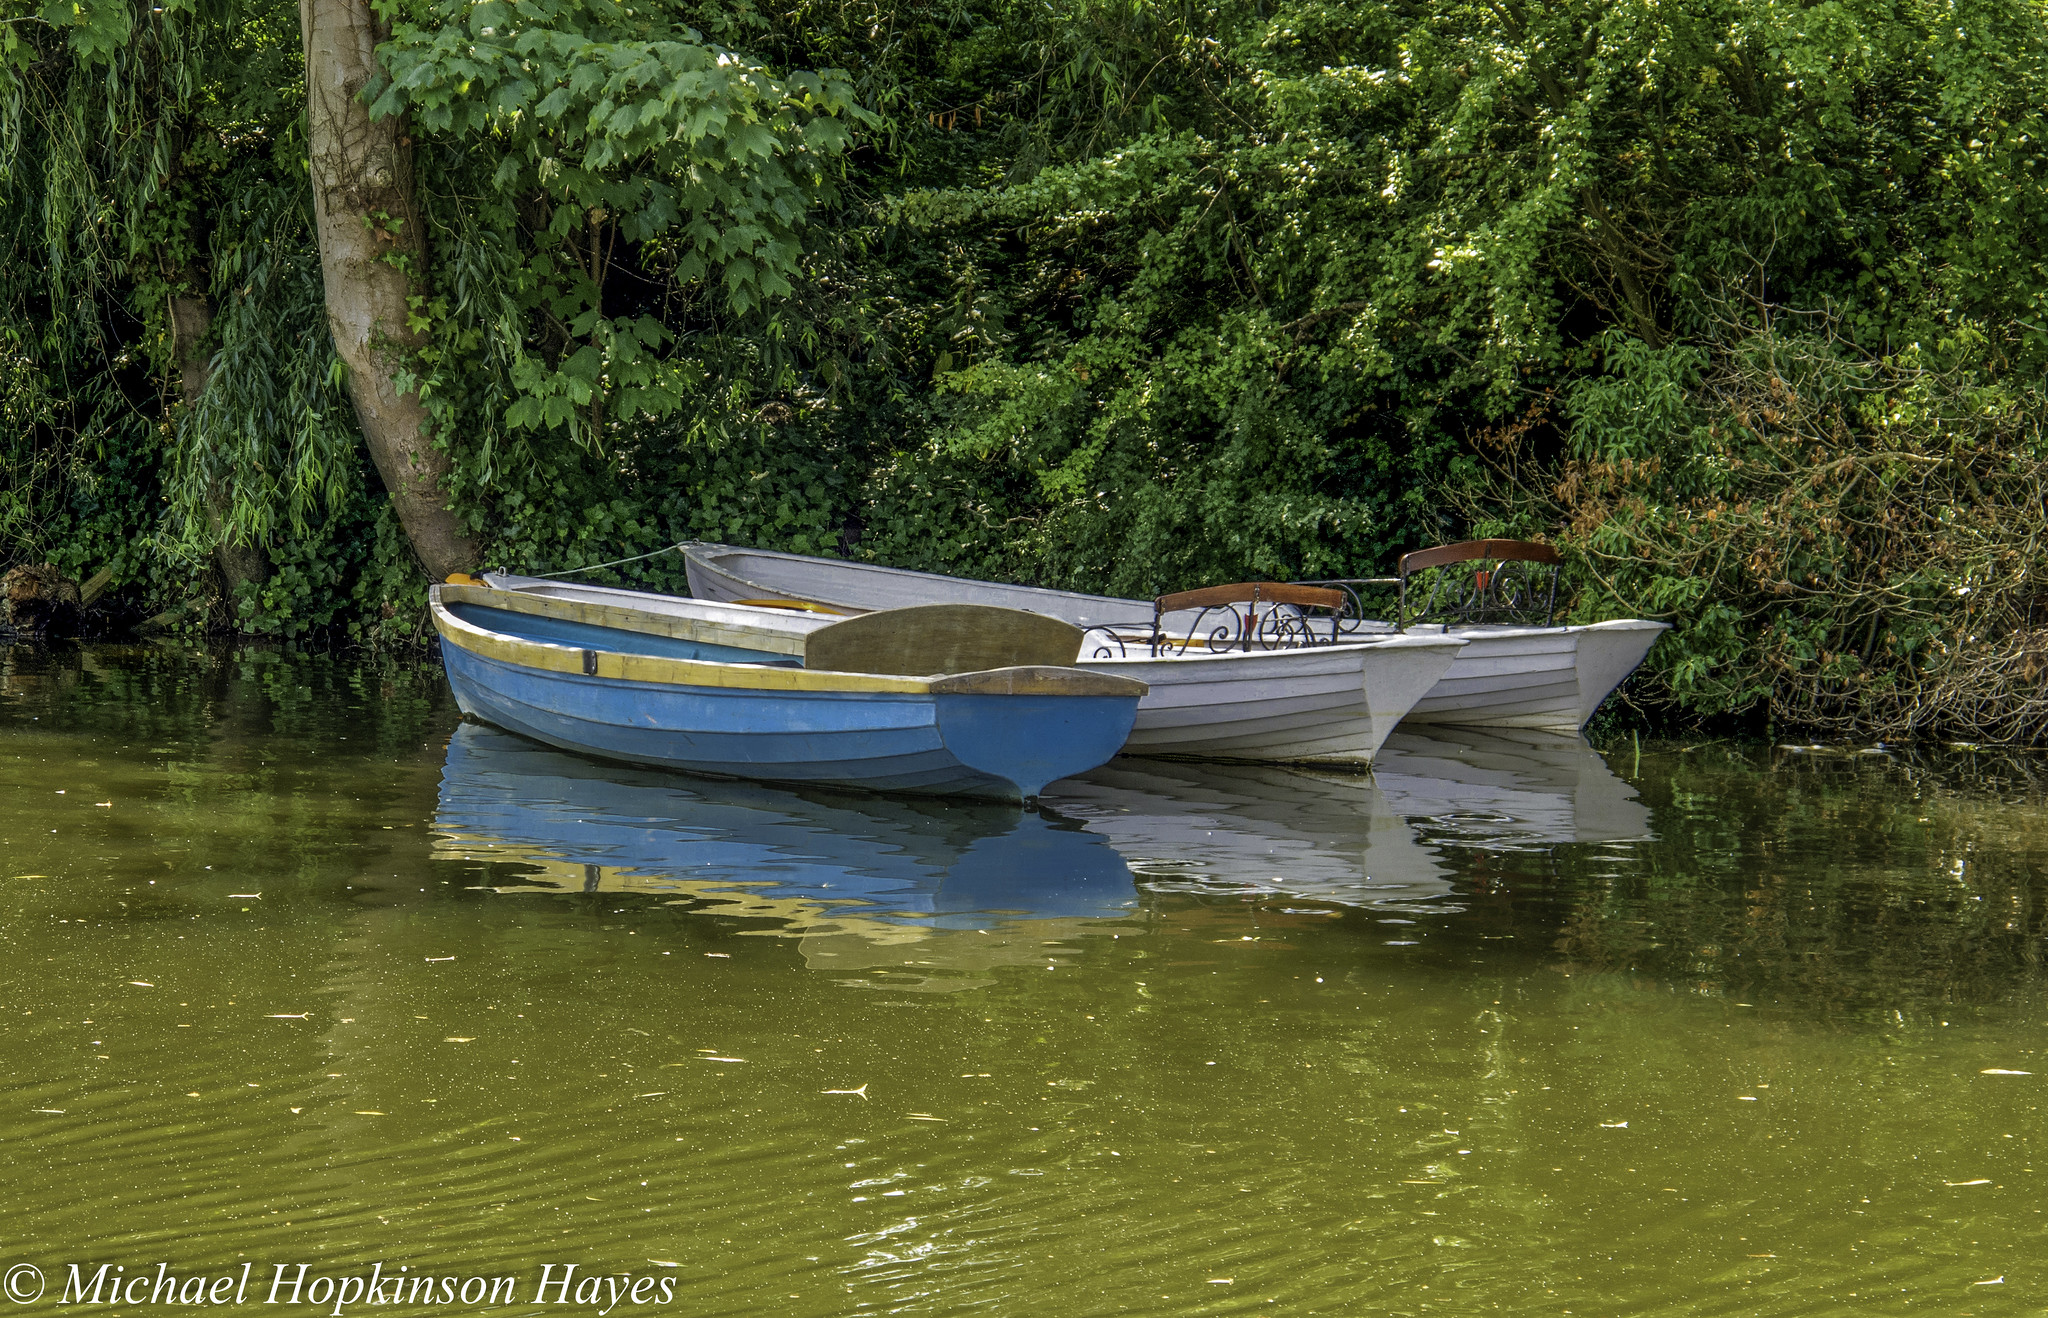boat: (681, 527, 1630, 719), (413, 561, 1127, 809)
